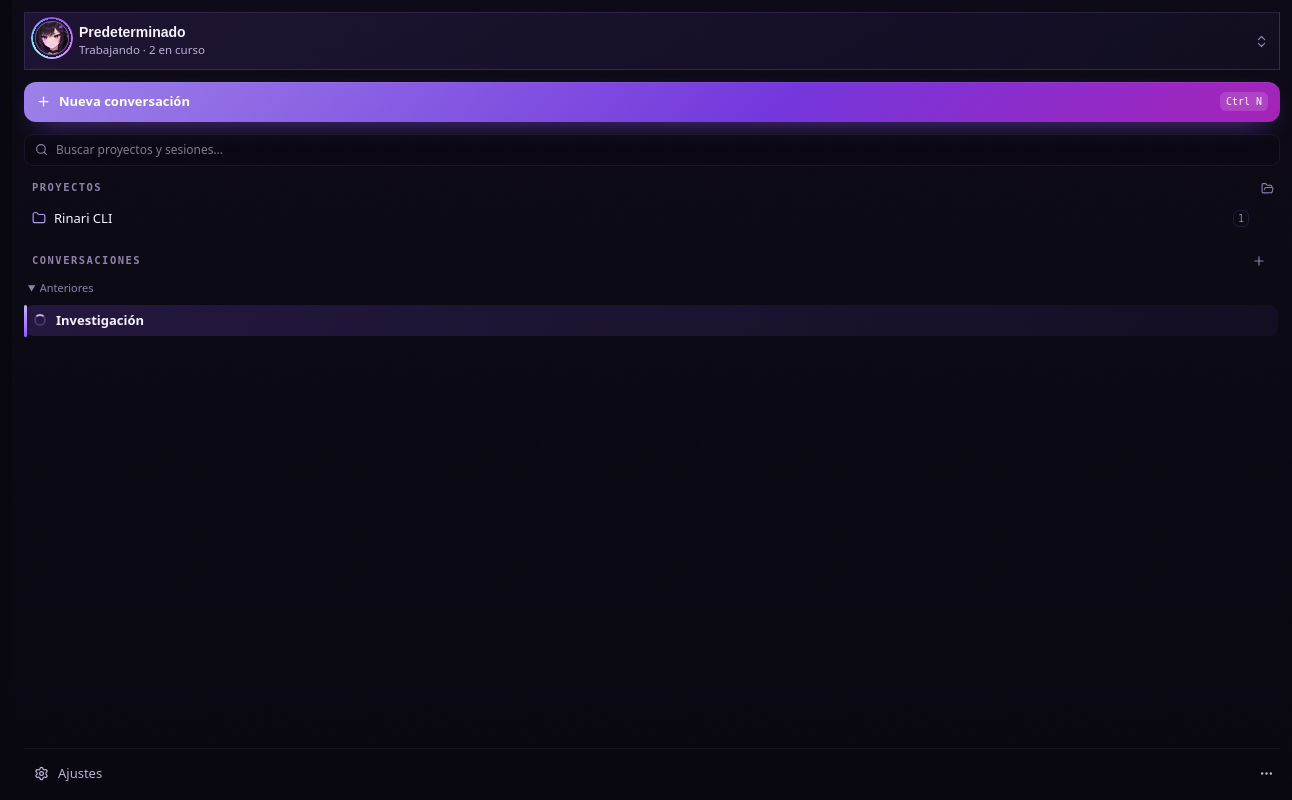
Test: pending in other profiles (#34) › the menu says which profiles are working, each with its own conversations
Click the button with test id "profile-switcher".
click(52, 38)  # box x1=24 y1=12 x2=1280 y2=70
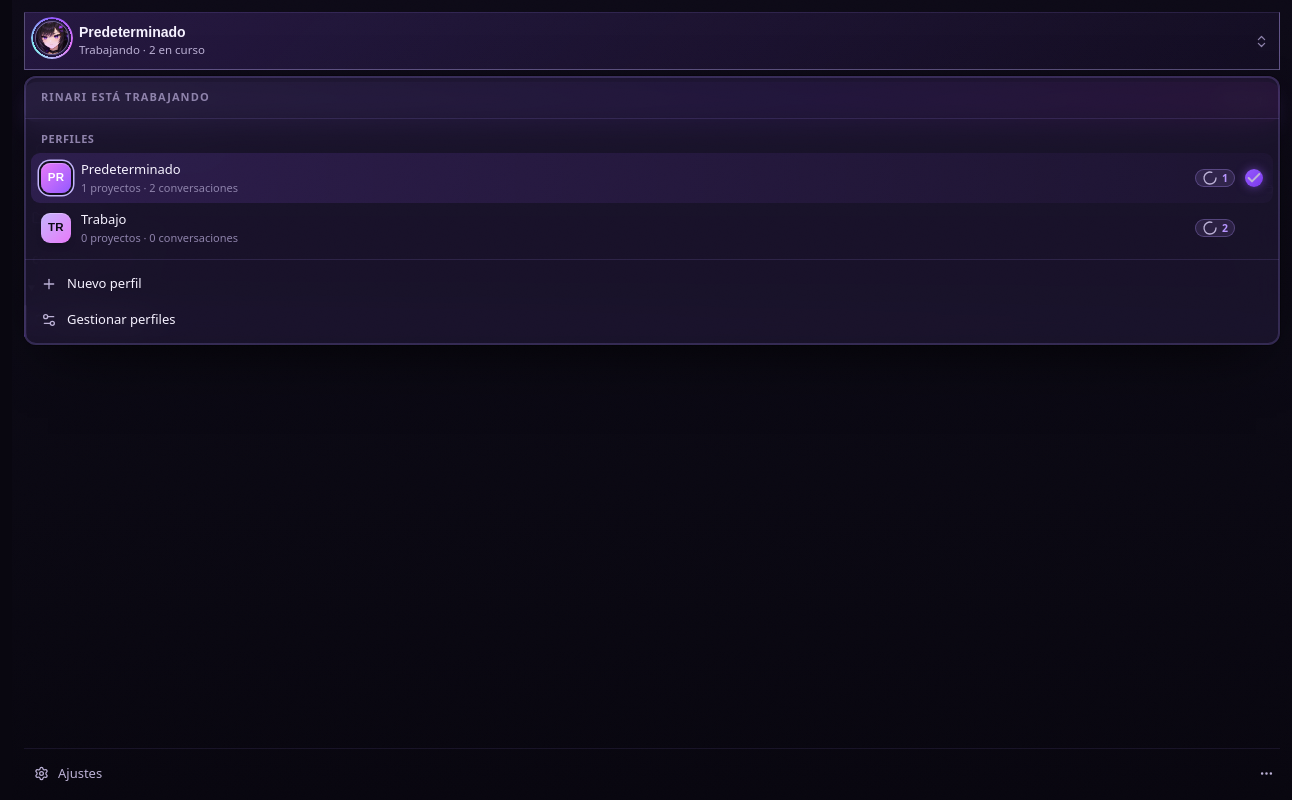
Check: the elements with test id "profile-working" read "1", "2", in this order, box x1=1195 y1=169 x2=1235 y2=187; x1=1195 y1=219 x2=1235 y2=237
